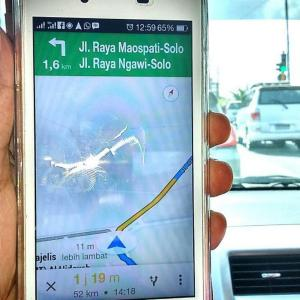Vehicle-registration-plate: (275, 123, 291, 132)
